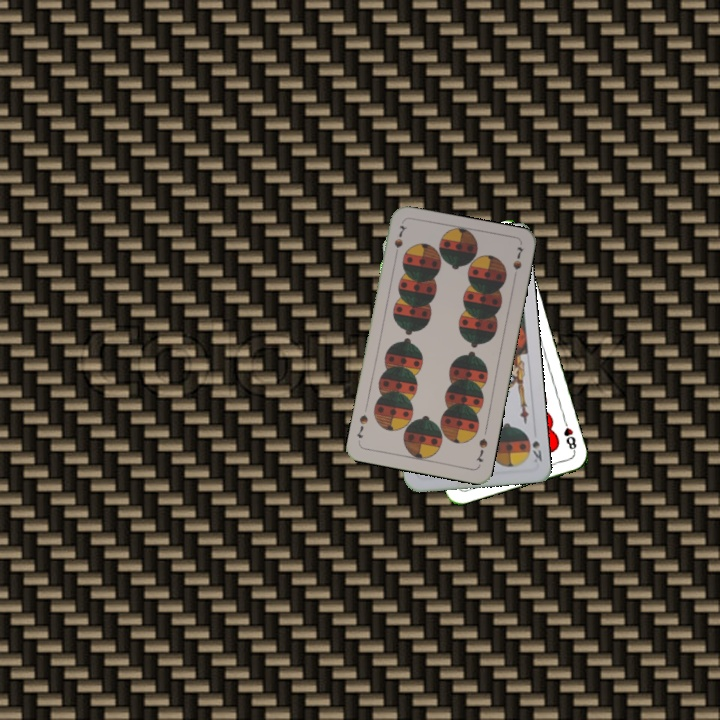H8: (559, 415, 579, 455)
S7: (390, 221, 409, 260), (472, 434, 490, 465)
SK: (528, 437, 544, 465)
